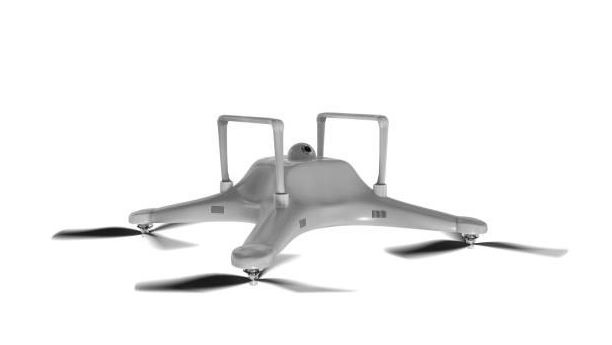Drone: (37, 110, 570, 297)
